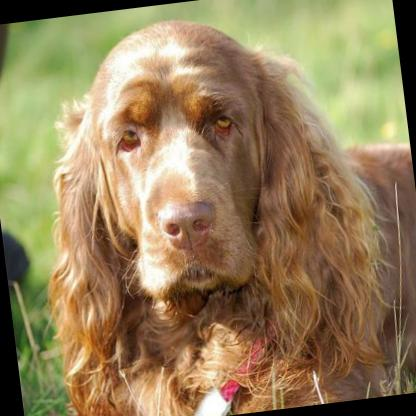Sussex_spaniel: (15, 0, 416, 416)
